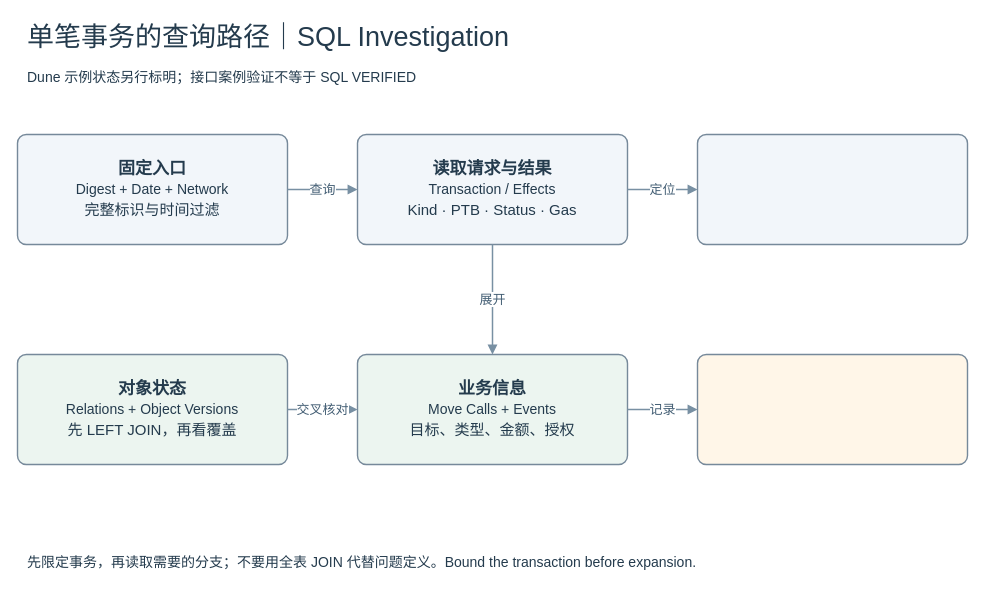
This 986x606 diagram has some shape labels left out. The centre of each missing label's shape, as x and y in pixels:
"历史位置 Checkpoint 序号、时间、Epoch" belongs at point (832, 189).
"形成证据包 Reproducible Evidence SQL · 参数 · 来源 · 状态" belongs at point (832, 409).
